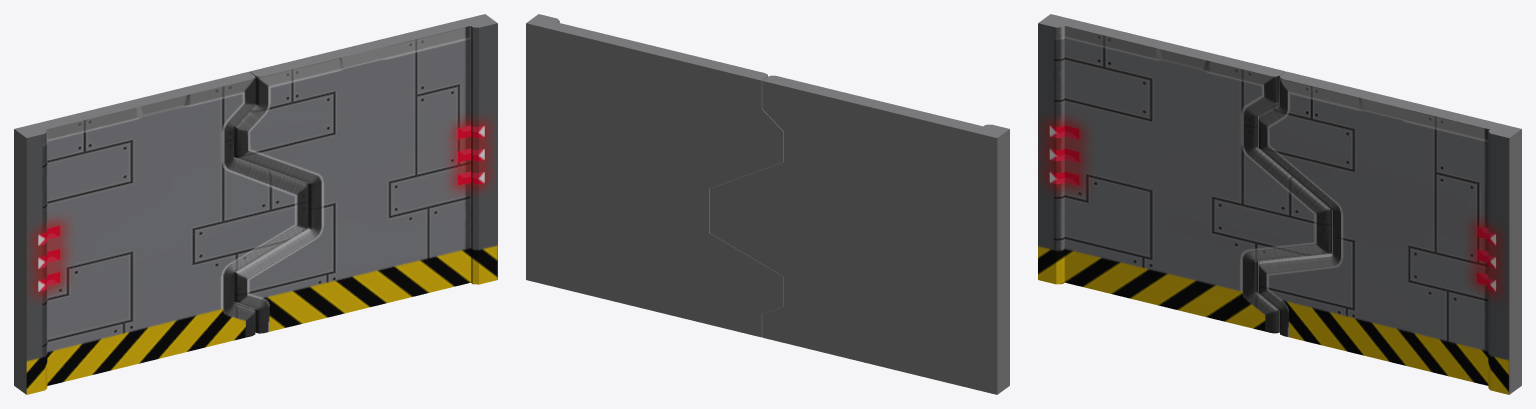
File: Sci_Fi_Door.fbx
3 renders of one model, left to right at view 1: azimuth 30°, elevation 25°; view 2: azimuth 150°, elevation 25°; view 3: azimuth 330°, elevation 25°, orthographic.
Parts seen in each view (by area): view 1: Door_L, Door_R; view 2: Door_L, Door_R; view 3: Door_L, Door_R.
Part boxes in pixels (x1,y1,x2,y2): Door_L: [14, 71, 307, 394]; Door_R: [233, 14, 497, 333]; Door_L: [710, 75, 1009, 394]; Door_R: [526, 14, 783, 337]; Door_L: [1038, 14, 1332, 333]; Door_R: [1258, 71, 1521, 394].
Bounding box in the file's own units: 764 × 398 × 35.4.
